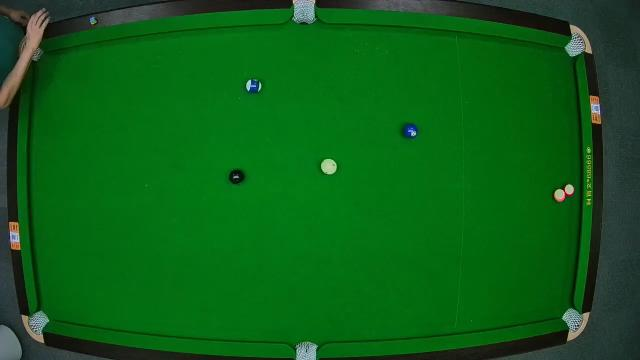bag2: (292, 0, 318, 24)
bag3: (564, 33, 588, 55)
bag4: (27, 310, 48, 334)
bag5: (293, 340, 319, 360)
bag6: (562, 308, 582, 330)
ball0: (320, 158, 338, 176)
ball10: (246, 79, 262, 93)
ball11: (562, 182, 576, 197)
ball12: (554, 187, 566, 202)
ball2: (402, 124, 418, 138)
ball8: (228, 170, 244, 184)
